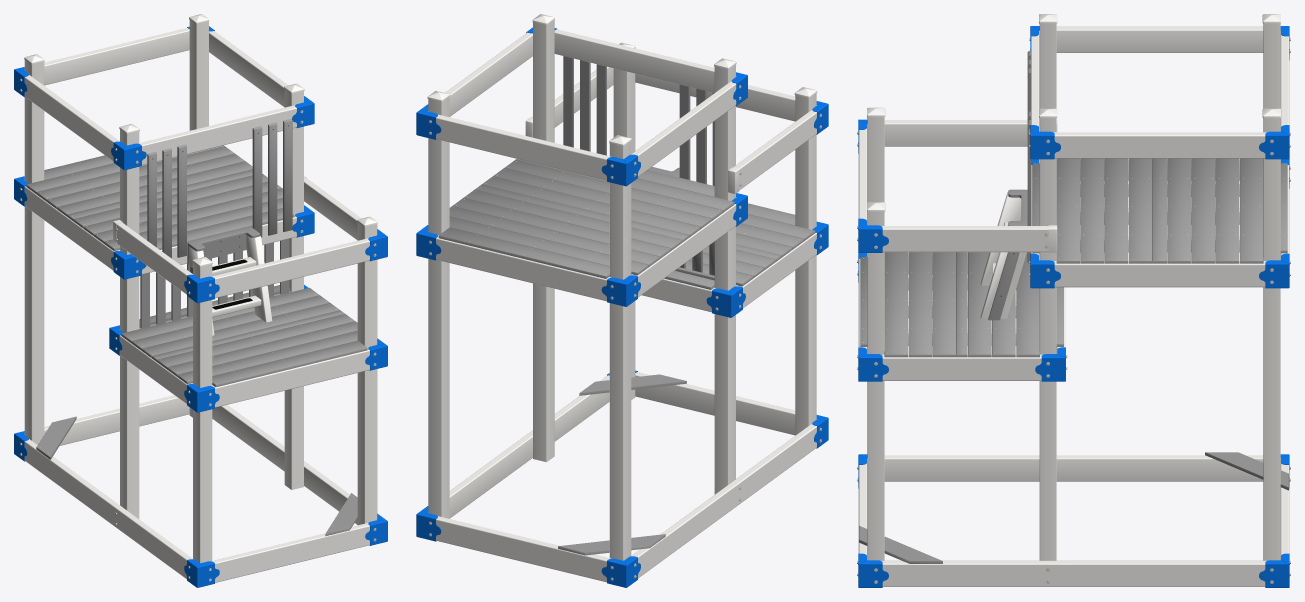
The model's file is Super59_5ft_Deck.glb.
The picture shows the model from 3 angles, left to right: view 1: azimuth 30°, elevation 25°; view 2: azimuth 150°, elevation 25°; view 3: azimuth 270°, elevation 25°; orthographic projection. The views are drawn at different scales.
Visible parts, largest first — view 1: Super59_5ft_Deck, Frame_Super59_Front, Frame_Super59_Back, Frame_Super59_Left_2, Frame_Super59_Right_2, Frame_Super59_Left, Frame_Super59_Right, Board_Bottom, Board_Bottom_2, cap; view 2: Super59_5ft_Deck, Frame_Super59_Back, Frame_Super59_Left_2, Frame_Super59_Left, Frame_Super59_Right_2, Frame_Super59_Front, Frame_Super59_Right, Board_Bottom_2, Board_Bottom, cap; view 3: Super59_5ft_Deck, Frame_Super59_Left_2, Frame_Super59_Right_2, Frame_Super59_Right, Frame_Super59_Left, Board_Bottom, Board_Bottom_2, Frame_Super59_Back, Frame_Super59_Front, cap.
Boxes of the visible parts, x1,y1,x2,y2 form: Super59_5ft_Deck: [14, 20, 387, 587]; Frame_Super59_Front: [211, 238, 369, 298]; Frame_Super59_Back: [44, 28, 189, 85]; Frame_Super59_Left_2: [24, 75, 119, 161]; Frame_Super59_Right_2: [209, 31, 288, 107]; Frame_Super59_Left: [113, 220, 193, 294]; Frame_Super59_Right: [304, 176, 361, 240]; Board_Bottom: [36, 416, 76, 459]; Board_Bottom_2: [325, 493, 357, 536]; cap: [24, 14, 304, 134]; Super59_5ft_Deck: [416, 20, 828, 587]; Frame_Super59_Back: [436, 114, 611, 180]; Frame_Super59_Left_2: [631, 81, 736, 176]; Frame_Super59_Left: [728, 110, 816, 193]; Frame_Super59_Right_2: [428, 32, 532, 116]; Frame_Super59_Front: [635, 73, 816, 121]; Frame_Super59_Right: [525, 66, 613, 137]; Board_Bottom_2: [579, 374, 686, 395]; Board_Bottom: [558, 534, 665, 555]; cap: [427, 14, 736, 146]; Super59_5ft_Deck: [857, 24, 1290, 587]; Frame_Super59_Left_2: [1056, 26, 1263, 52]; Frame_Super59_Right_2: [1053, 132, 1266, 158]; Frame_Super59_Right: [881, 225, 1057, 252]; Frame_Super59_Left: [884, 120, 1057, 146]; Board_Bottom: [1205, 452, 1288, 490]; Board_Bottom_2: [859, 525, 942, 563]; Frame_Super59_Back: [1280, 30, 1289, 131]; Frame_Super59_Front: [858, 124, 867, 224]; cap: [1039, 14, 1280, 118].
Bounding box in the file's own units: 1.55 × 3.07 × 2.56.
